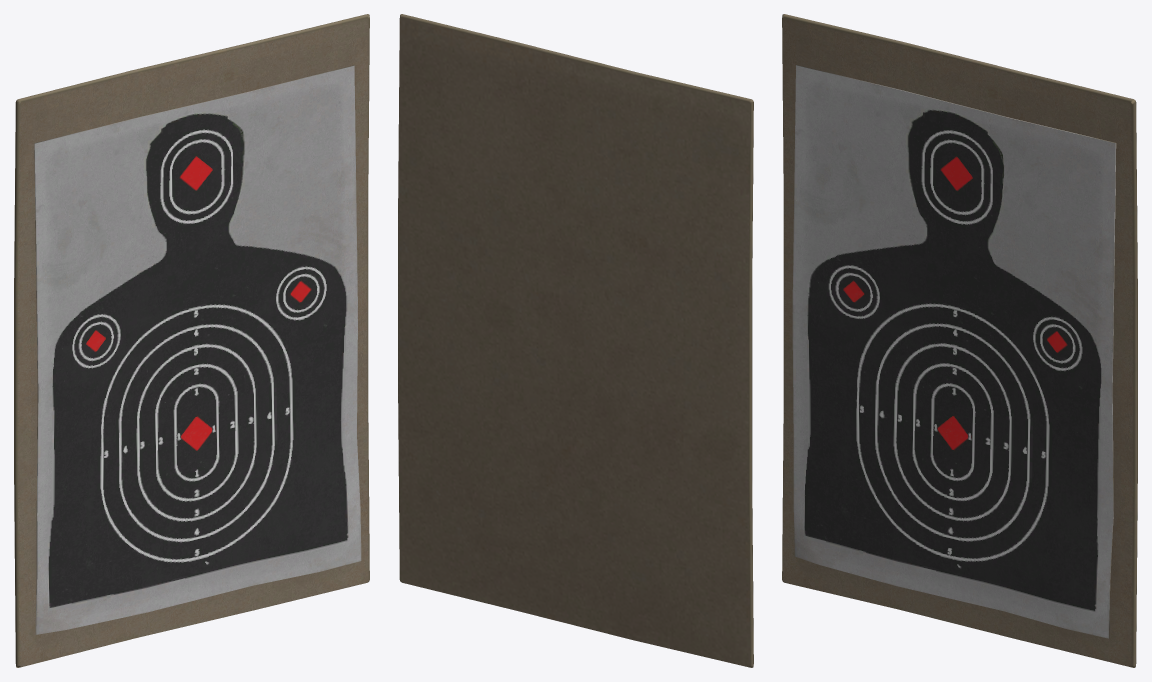
The model's file is SM_Paper_Targets_01b.glb.
The picture shows the model from 3 angles, left to right: view 1: azimuth 30°, elevation 25°; view 2: azimuth 150°, elevation 25°; view 3: azimuth 330°, elevation 25°; orthographic projection.
Parts seen in each view (by area): view 1: SM_Paper_Targets_01b; view 2: SM_Paper_Targets_01b; view 3: SM_Paper_Targets_01b.
Boxes of the visible parts, x1,y1,x2,y2 form: SM_Paper_Targets_01b: [14, 14, 369, 667]; SM_Paper_Targets_01b: [398, 14, 753, 667]; SM_Paper_Targets_01b: [782, 14, 1137, 667].
Size of the model in its own units: 0.7305 by 1.12 by 0.0531.
1 material, 1 textured.
